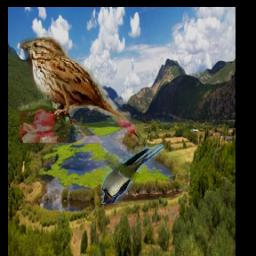Sparrow: (20, 34, 148, 144)
Swallow: (101, 145, 164, 205)
